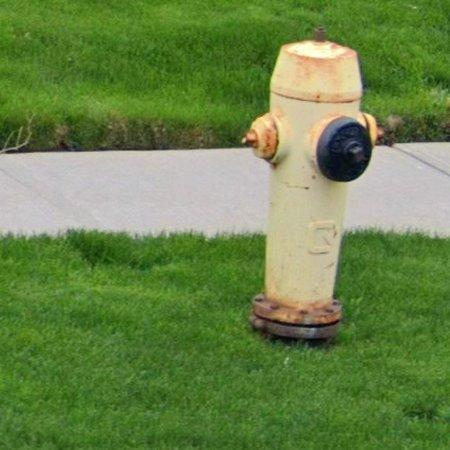a fire hydrant: (245, 38, 378, 339)
